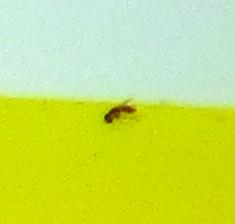Brachycera: (100, 100, 135, 124)
